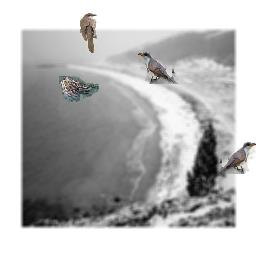Cuckoo: (216, 142, 256, 174), (138, 52, 178, 84), (80, 13, 97, 53)
Sparrow: (59, 76, 99, 102)
